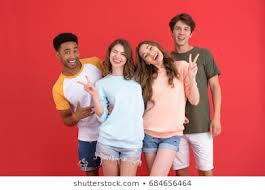person: (46, 29, 106, 126), (134, 31, 189, 129), (164, 11, 221, 101), (96, 35, 140, 123)
